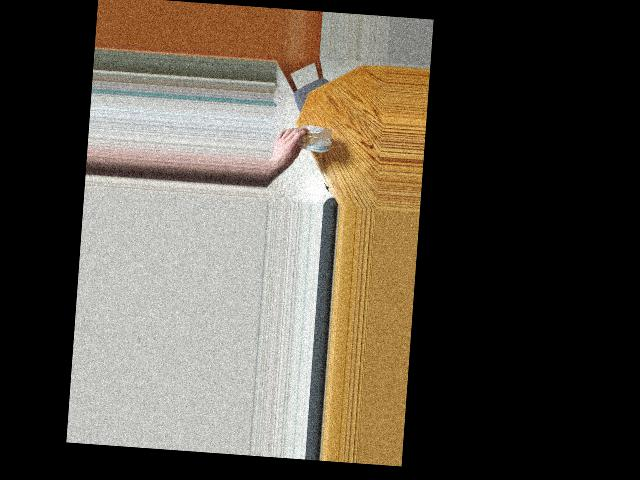cheese: (291, 115, 333, 169)
